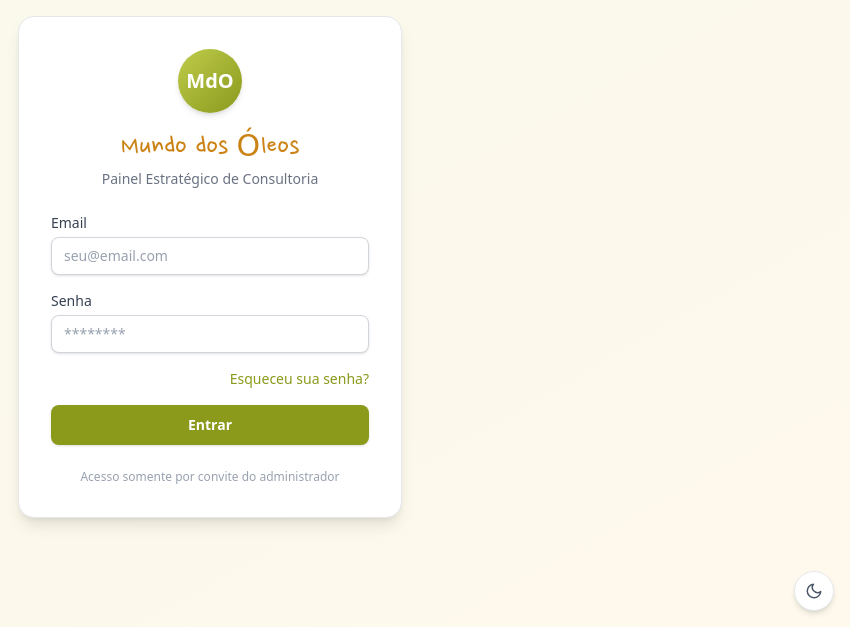
Test: LoginPage › switches to forgot password mode
This screenshot has width=850, height=627.
Click the button "Esqueceu sua senha?": (299, 379) [230,369,369,389]
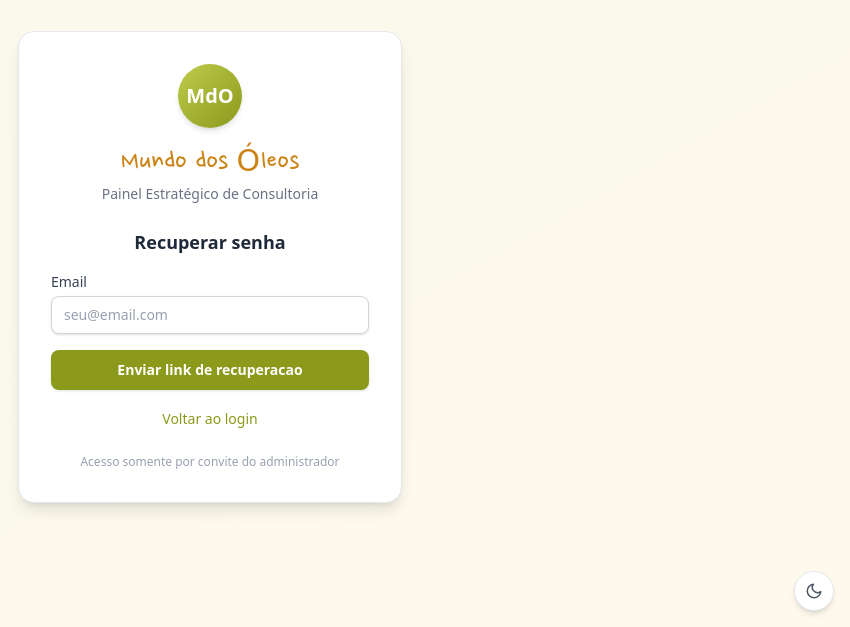
Expected: the heading "Recuperar senha" is shown, [134,230,286,254]
Expected: the button "Enviar link de recuperacao" is shown, [51,350,369,390]
